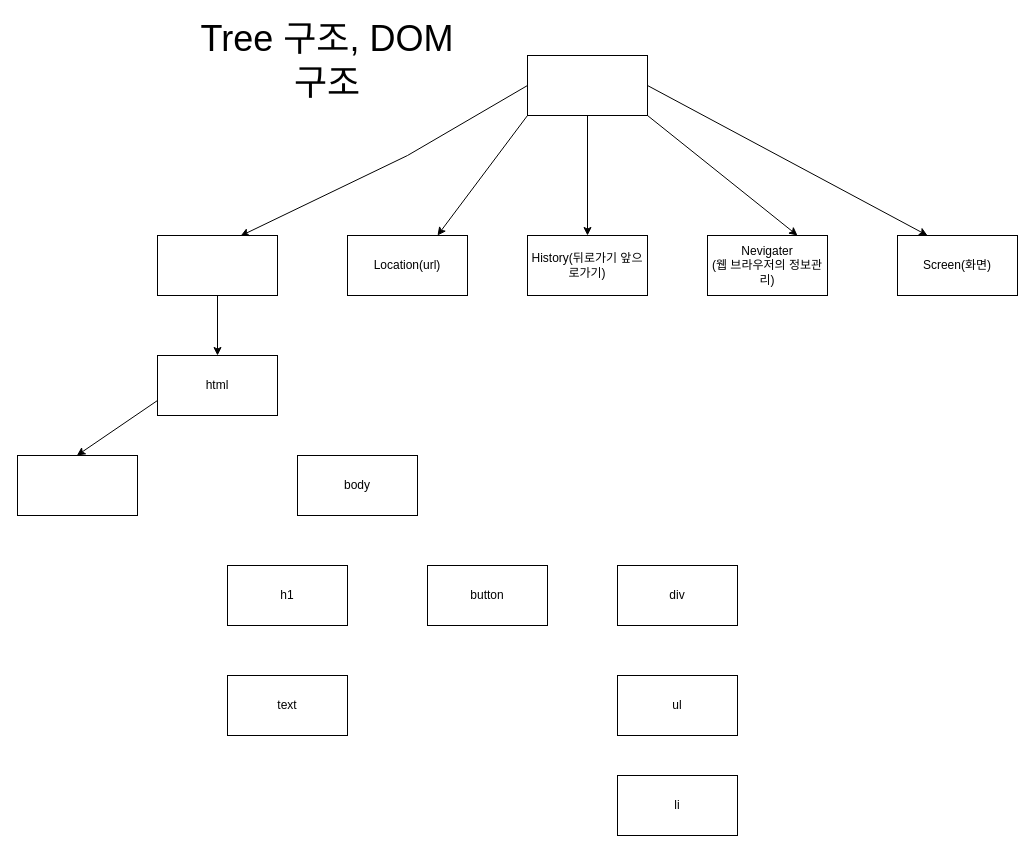
Some shapes in this 1035 by 853 pixel diagram are drawn without their labels. The centre of each missing label's shape, as x and y in pixels:
"Document" goes at point (217, 265).
"head" goes at point (77, 485).
"Windows" goes at point (587, 85).
